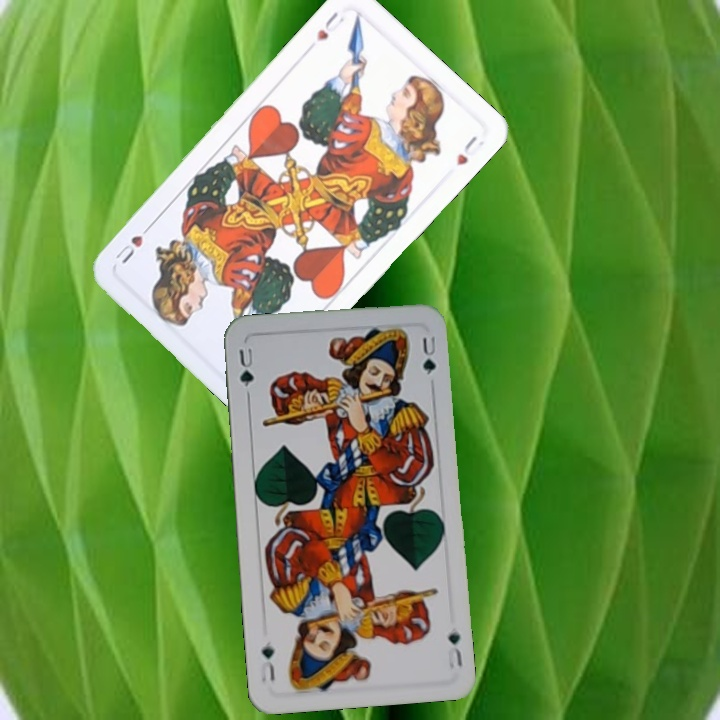GU: (235, 344, 257, 389), (443, 627, 464, 672)
HU: (312, 8, 347, 45)
